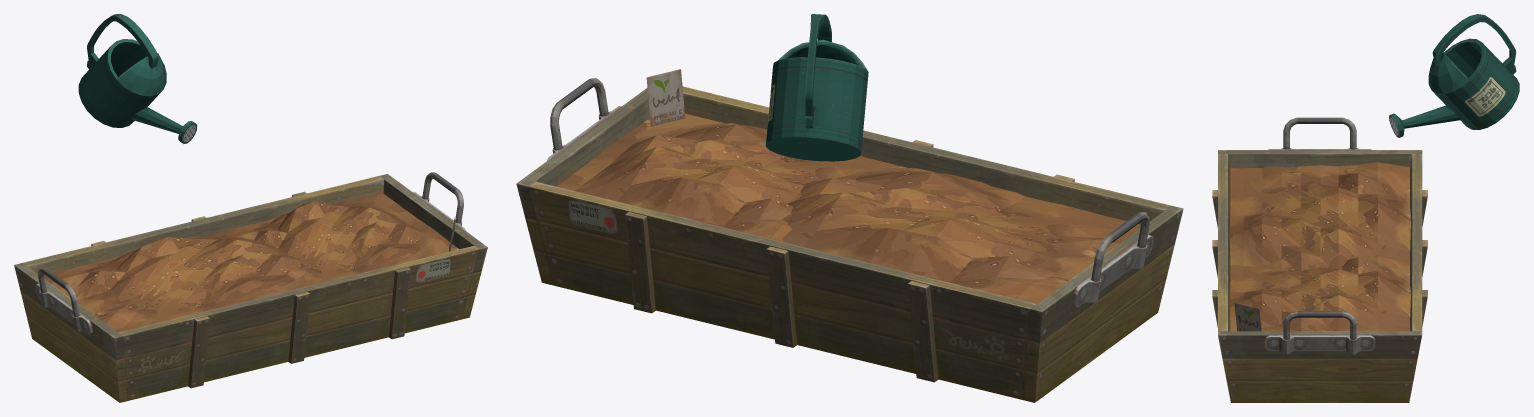
Rendered from P_FlowerPot_010_S1_M01.obj.
3 views of the same model, side by side, from view 1: azimuth 30°, elevation 25°; view 2: azimuth 150°, elevation 25°; view 3: azimuth 270°, elevation 25° (orthographic). The views are drawn at different scales.
Size of the model in its own units: 2.11 by 1.37 by 1.39.
Materials: 4 (4 with a texture image).
